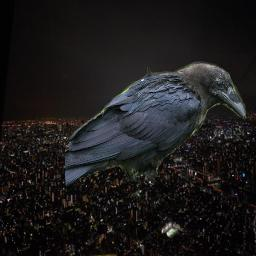Crow: (65, 61, 247, 187)
